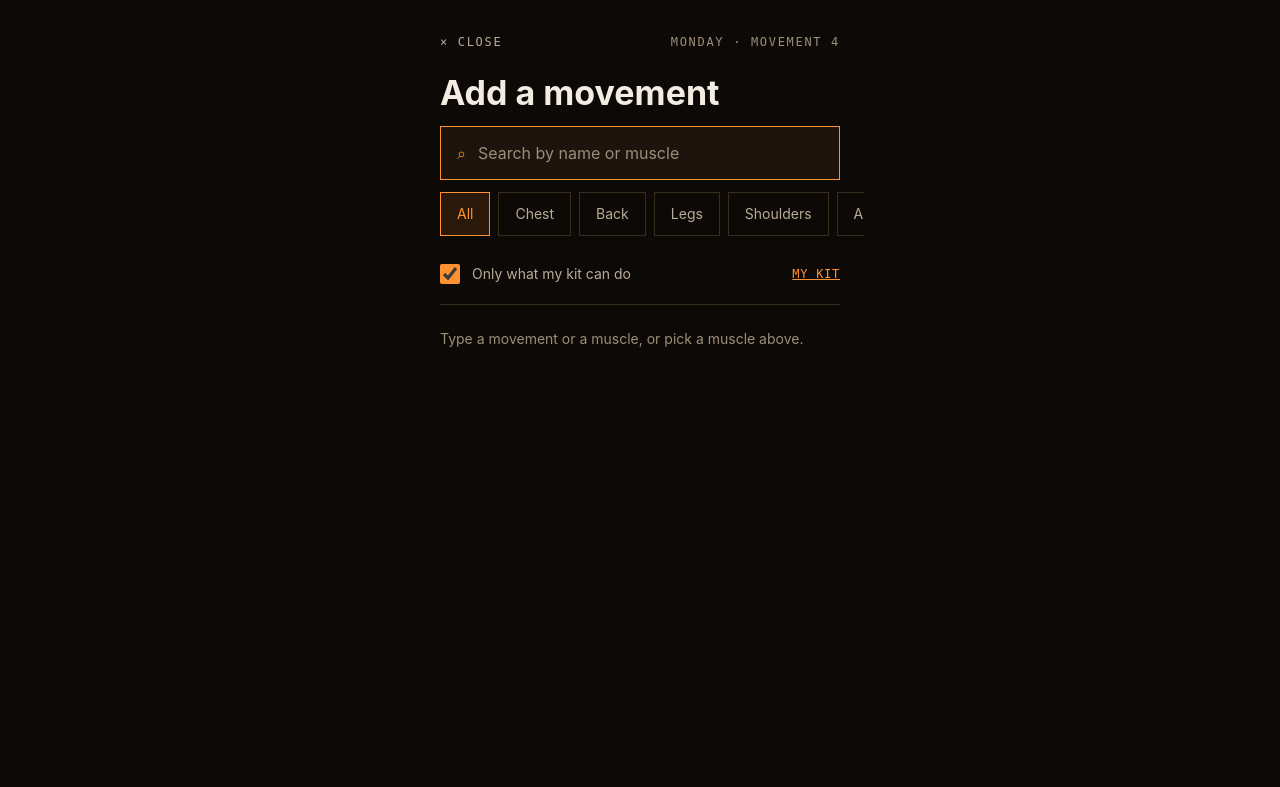
Test: the movement picker › shows everything when the kit filter is off
Type "press" into the field named "Search movements" at (650, 153), box [478,127,823,179]
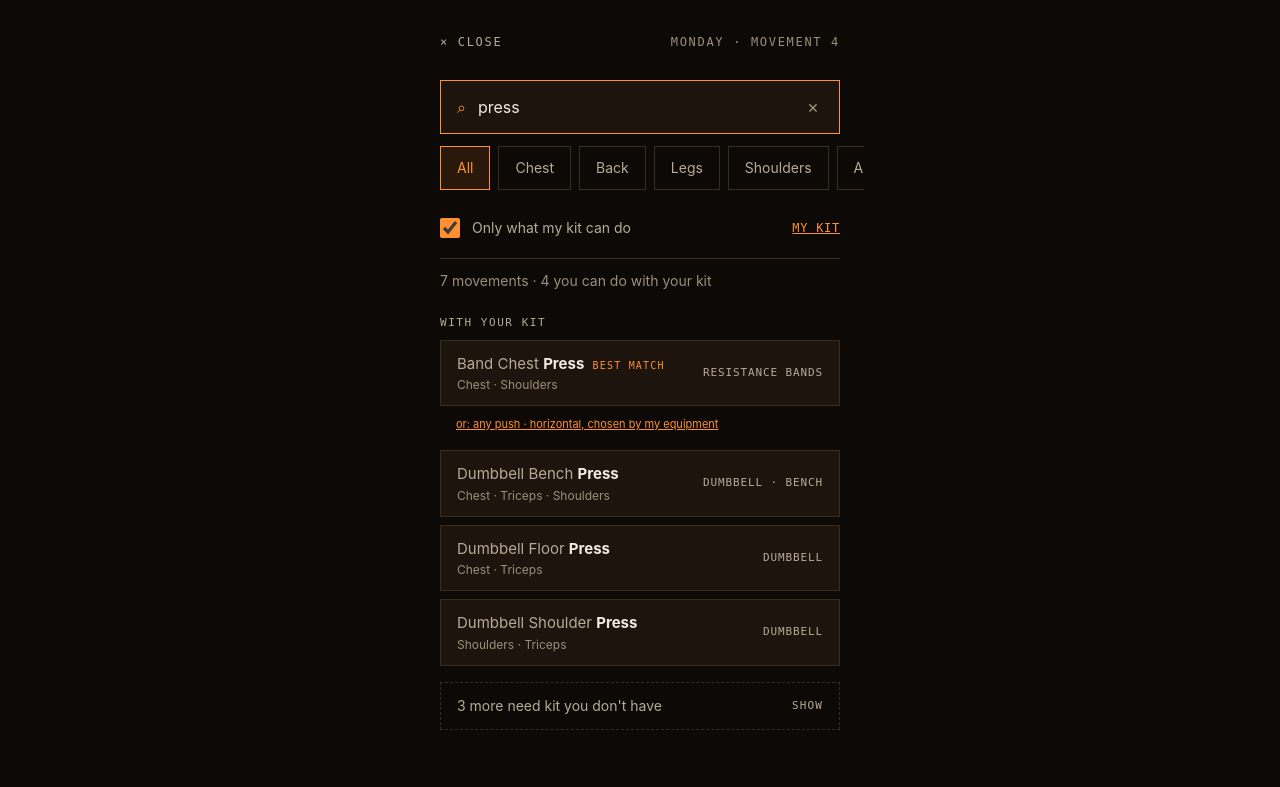
Now the text "7 movements · 4 you can do with your kit" is shown, box [440,272,712,289]
Click the checkbox labelled "Only what my kit can do" at (450, 228), box [440,218,460,238]
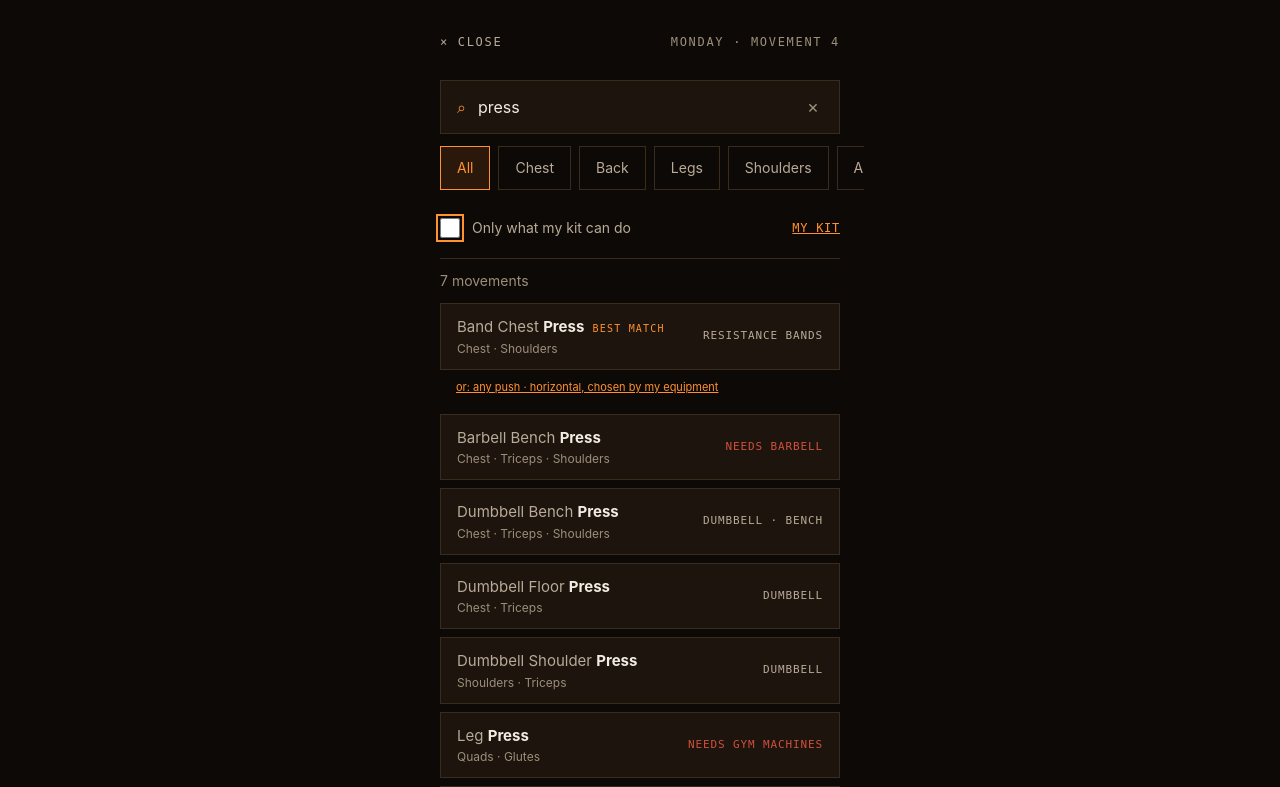
Now the text "7 movements" is shown, box [440,272,528,289]
Now the button "Leg Press Quads · Glutes NEEDS GYM MACHINES" is shown, box [440,712,840,778]
